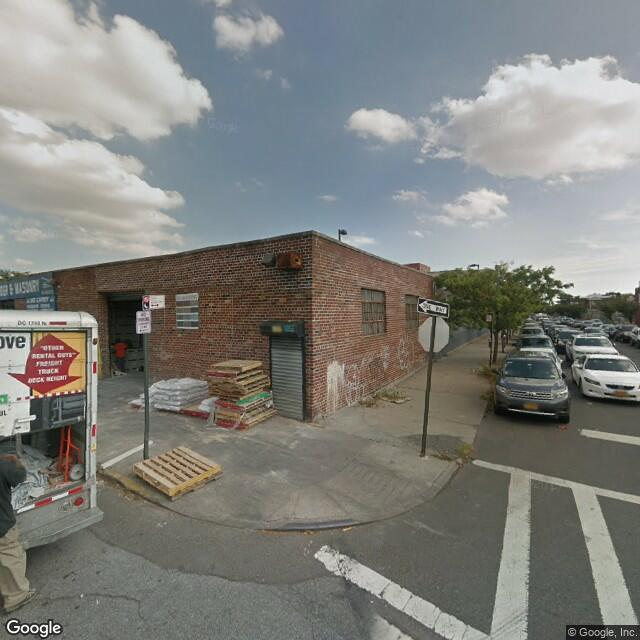litter: (98, 440, 150, 468), (395, 396, 414, 407), (560, 423, 570, 432), (341, 526, 356, 531), (587, 400, 596, 406)
